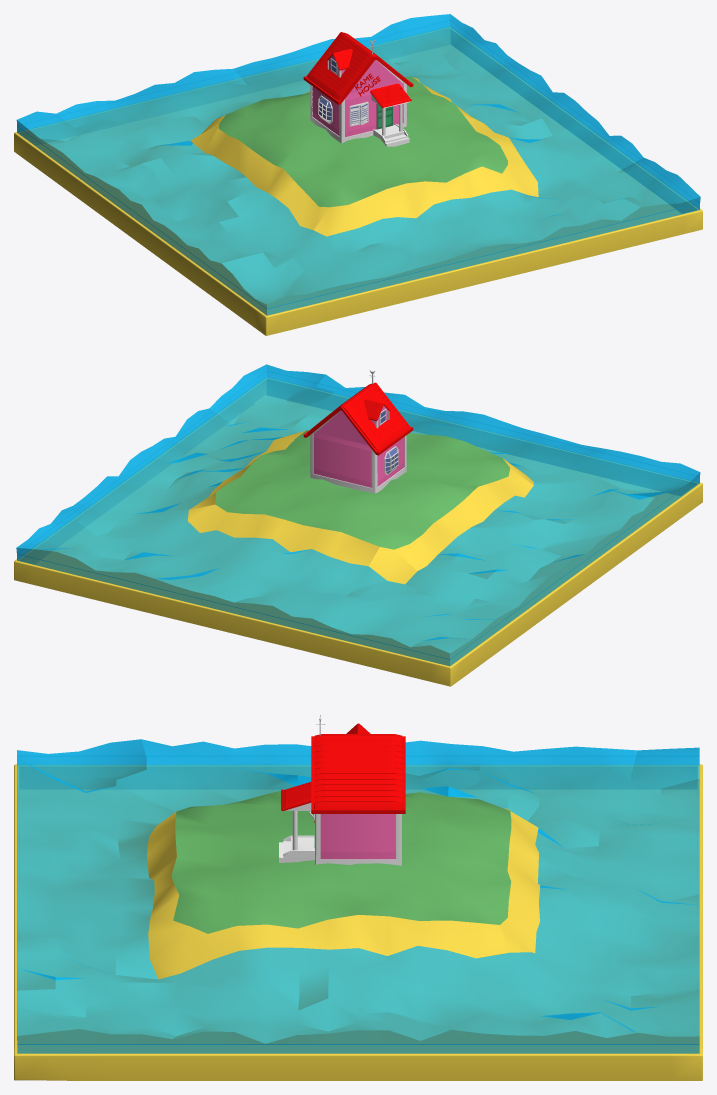
File: Kame House.glb
The picture shows the model from 3 angles, top to bottom: view 1: azimuth 30°, elevation 25°; view 2: azimuth 150°, elevation 25°; view 3: azimuth 270°, elevation 25°; orthographic projection. The views are drawn at different scales.
Parts seen in each view (by area): view 1: Floor, Roof, Planks, Bottom House, Stairs and AwningSupports, Door Awning; view 2: Floor, Planks, Roof, Bottom House; view 3: Floor, Roof, Planks, Stairs and AwningSupports, Bottom House, Door Awning.
Boxes of the visible parts, left/top/right/bottom form: Floor: left=14, top=14, right=702, bottom=335; Roof: left=303, top=32, right=413, bottom=104; Planks: left=312, top=60, right=403, bottom=137; Bottom House: left=310, top=82, right=406, bottom=143; Stairs and AwningSupports: left=373, top=104, right=409, bottom=146; Door Awning: left=370, top=83, right=411, bottom=108; Floor: left=14, top=364, right=702, bottom=686; Planks: left=313, top=410, right=404, bottom=487; Roof: left=303, top=382, right=413, bottom=455; Bottom House: left=310, top=433, right=406, bottom=493; Floor: left=14, top=739, right=702, bottom=1080; Roof: left=311, top=734, right=405, bottom=813; Planks: left=320, top=814, right=395, bottom=859; Stairs and AwningSupports: left=279, top=810, right=314, bottom=862; Bottom House: left=315, top=814, right=401, bottom=865; Door Awning: left=281, top=782, right=311, bottom=810.
Size of the model in its own units: 41.38 by 14.52 by 41.38.
